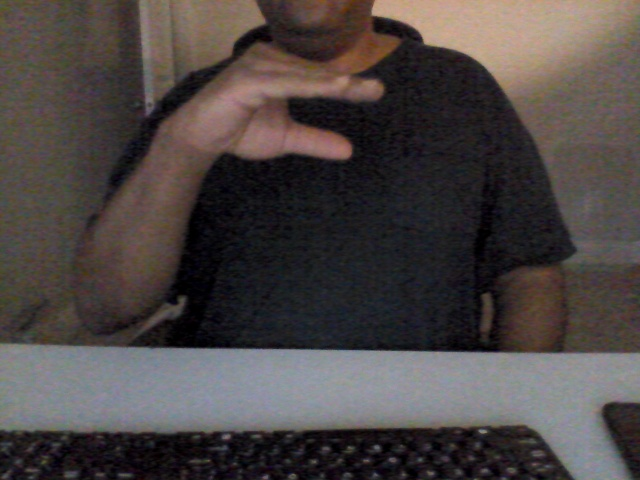no: (163, 44, 392, 172)
